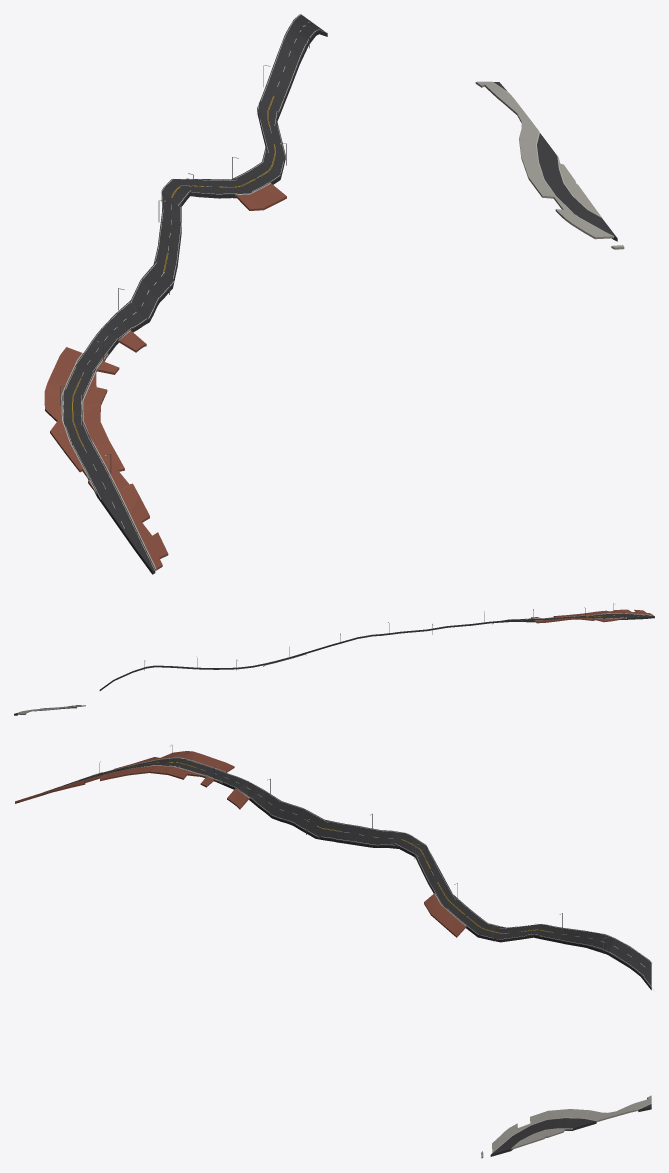
The model's file is 17-109470-59481.8ede0961.glb.
3 renders of one model, top to bottom at view 1: azimuth 30°, elevation 25°; view 2: azimuth 150°, elevation 25°; view 3: azimuth 270°, elevation 25°, orthographic. The views are drawn at different scales.
Size of the model in its own units: 293 by 82.68 by 294.
